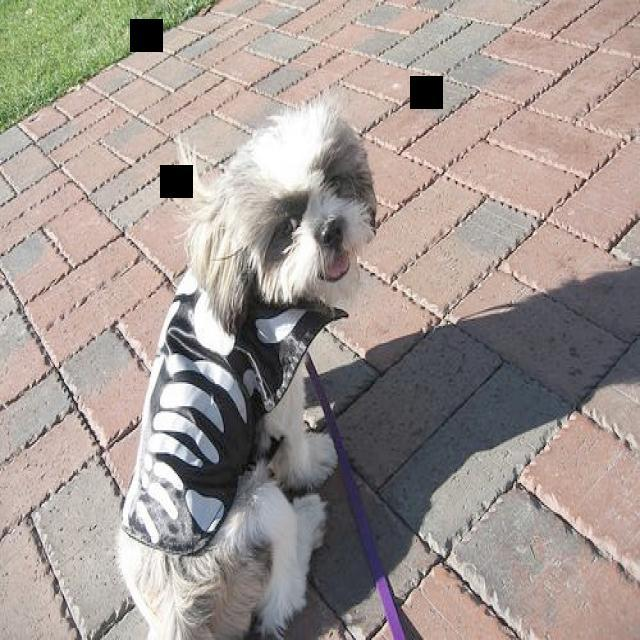adult_dog: (106, 87, 381, 640)
